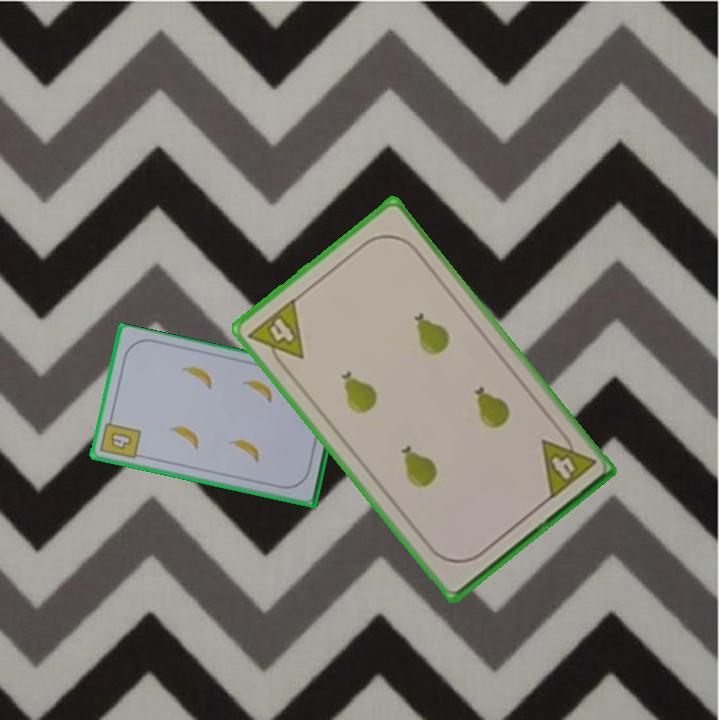4b: (97, 413, 144, 462)
4p: (244, 294, 307, 375), (537, 425, 599, 503)
